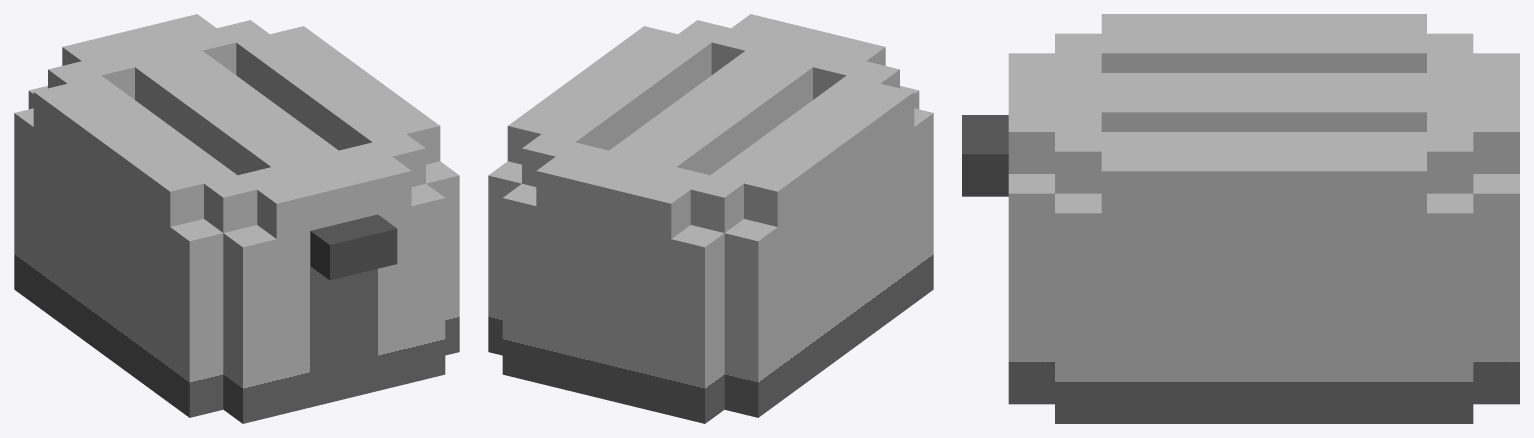
The model's file is Torradeira Up.obj.
The picture shows the model from 3 angles, left to right: view 1: azimuth 30°, elevation 25°; view 2: azimuth 150°, elevation 25°; view 3: azimuth 270°, elevation 25°; orthographic projection. The views are drawn at different scales.
Parts seen in each view (by area): view 1: Model; view 2: Model; view 3: Model.
Boxes of the visible parts, box(x1,y1,x2,y2) form: Model: box(14, 14, 459, 423); Model: box(488, 14, 933, 423); Model: box(962, 14, 1519, 423).
Size of the model in its own units: 21.33 by 16 by 32.
Materials: 1 (1 with a texture image).
